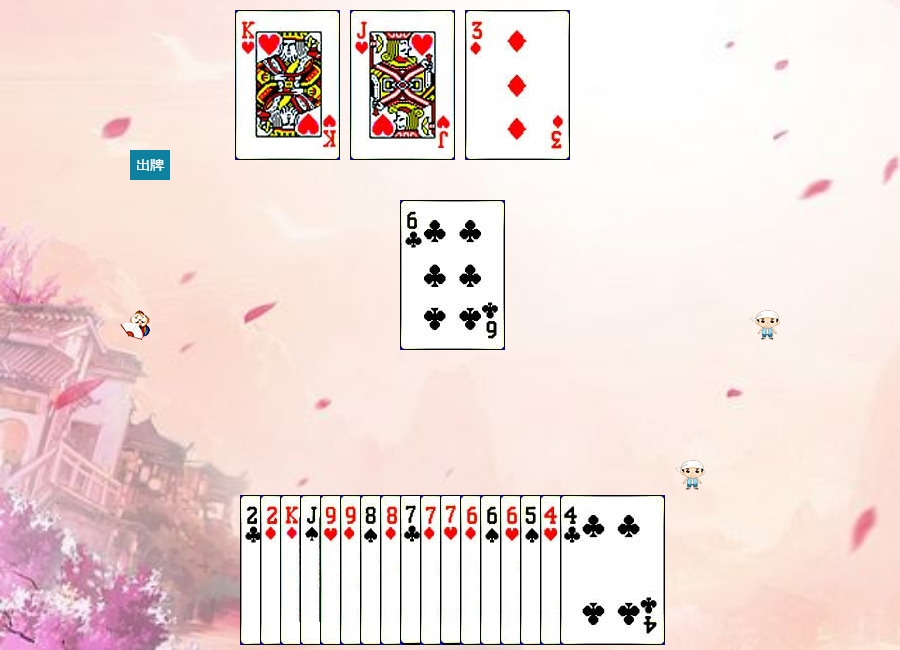11~3: (350, 10, 455, 160)
11~4: (300, 495, 405, 645)
13~1: (280, 495, 385, 645)
13~3: (235, 10, 340, 160)
15~1: (260, 495, 365, 645)
15~2: (240, 495, 345, 645)
3~1: (465, 10, 570, 160)
4~2: (560, 495, 665, 645)
4~3: (540, 495, 645, 645)
5~4: (520, 495, 625, 645)
6~1: (460, 495, 565, 645)
6~2: (400, 200, 505, 350)
6~3: (500, 495, 605, 645)
6~4: (480, 495, 585, 645)
7~1: (420, 495, 525, 645)
7~2: (400, 495, 505, 645)
7~3: (440, 495, 545, 645)
8~1: (380, 495, 485, 645)
8~4: (360, 495, 465, 645)
9~1: (340, 495, 445, 645)
9~3: (320, 495, 425, 645)
